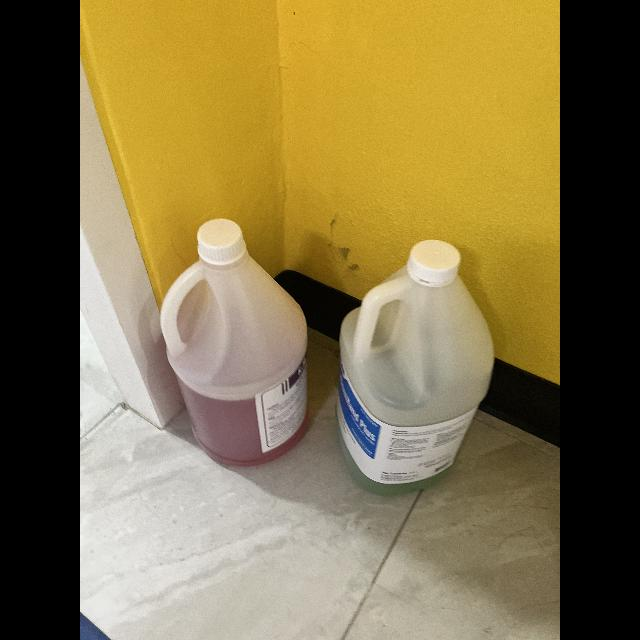chemical_plastic_gallon: (330, 232, 492, 502), (156, 210, 316, 478)
